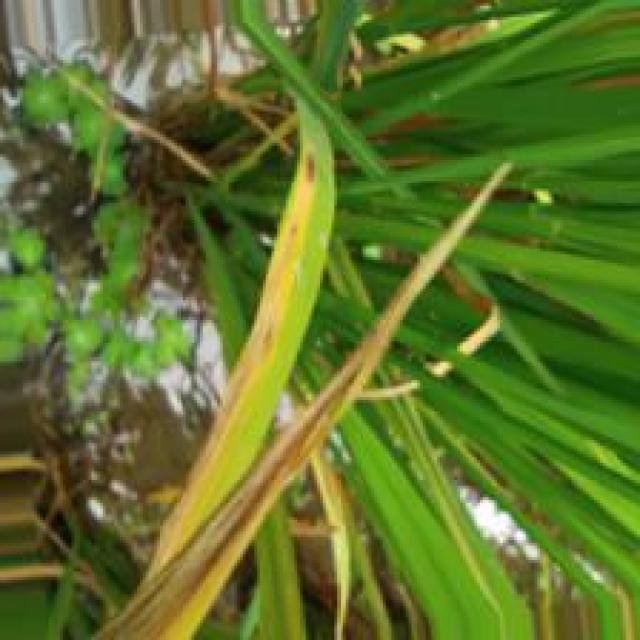Leaf_Scald: (96, 327, 379, 640), (165, 147, 319, 529)
